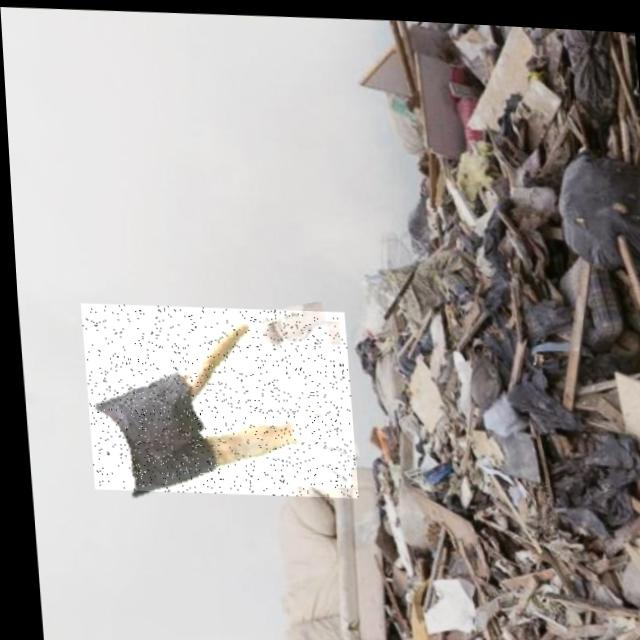Person in Rubble: (76, 296, 352, 498)
